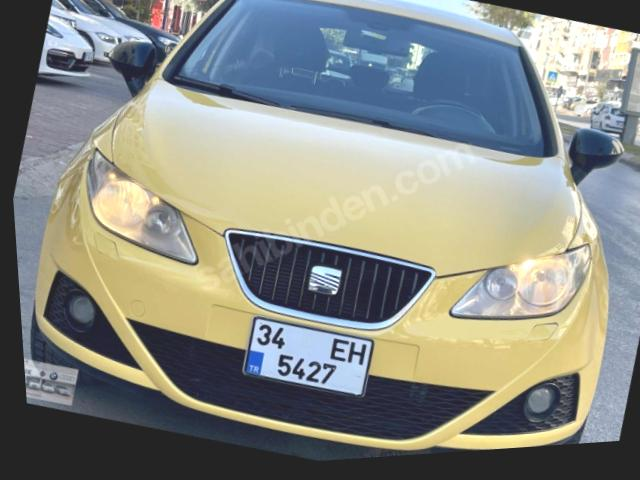plaka: (244, 316, 372, 396)
